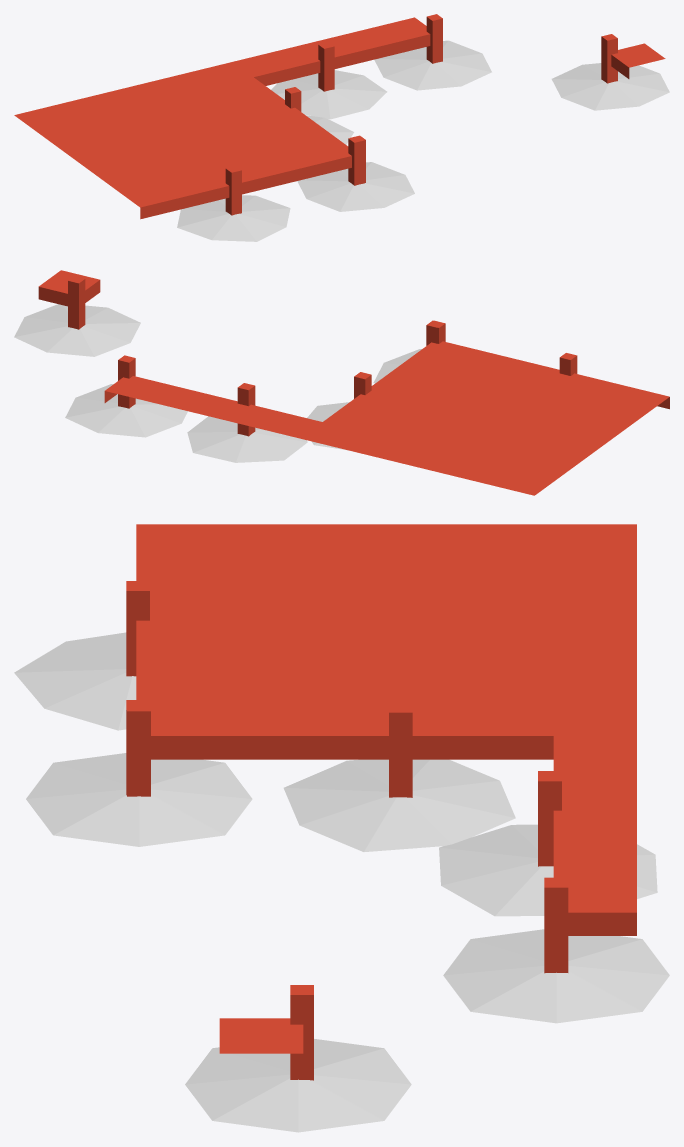
File: tileset_bridge.fbx
3 renders of one model, top to bottom at view 1: azimuth 30°, elevation 25°; view 2: azimuth 150°, elevation 25°; view 3: azimuth 270°, elevation 25°, orthographic. The views are drawn at different scales.
Visible parts, largest first — view 1: bridge_air_flat, bridge_air_in, bridge_air_saddle, bridge_air_line, bridge_air_out, bridge_air_line.004; view 2: bridge_air_flat, bridge_air_in, bridge_air_saddle, bridge_air_line, bridge_air_out; view 3: bridge_air_flat, bridge_air_in, bridge_air_saddle, bridge_air_line, bridge_air_out.
Part boxes in pixels (box(x1,y1,x2,y2)): bridge_air_flat: box(14, 71, 300, 191); bridge_air_in: box(196, 26, 399, 147); bridge_air_saddle: box(374, 14, 669, 110); bridge_air_line: box(119, 148, 322, 241); bridge_air_out: box(297, 135, 414, 211); bridge_air_line.004: box(348, 136, 364, 185); bridge_air_flat: box(339, 365, 646, 495); bridge_air_in: box(144, 356, 451, 462); bridge_air_saddle: box(14, 270, 187, 437); bridge_air_line: box(452, 349, 669, 413); bridge_air_out: box(373, 320, 473, 383); bridge_air_flat: box(219, 524, 636, 700); bridge_air_in: box(219, 701, 657, 916); bridge_air_saddle: box(185, 877, 669, 1132); bridge_air_line: box(14, 524, 219, 730); bridge_air_out: box(26, 701, 252, 846).
Bounding box in the file's own units: 15.39 × 1.3 × 7.86.
